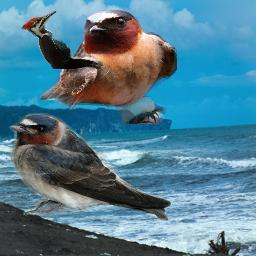Swallow: (6, 112, 174, 222), (40, 10, 177, 124)
Woodpecker: (18, 11, 103, 69)
